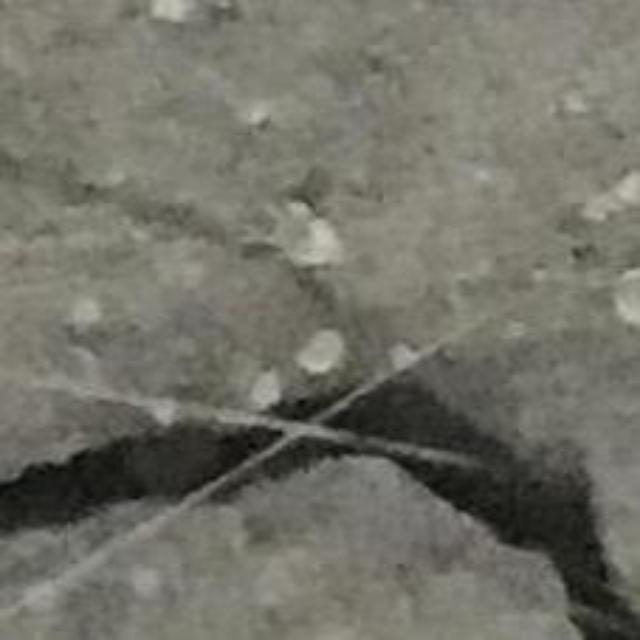crack: (215, 378, 639, 639)
